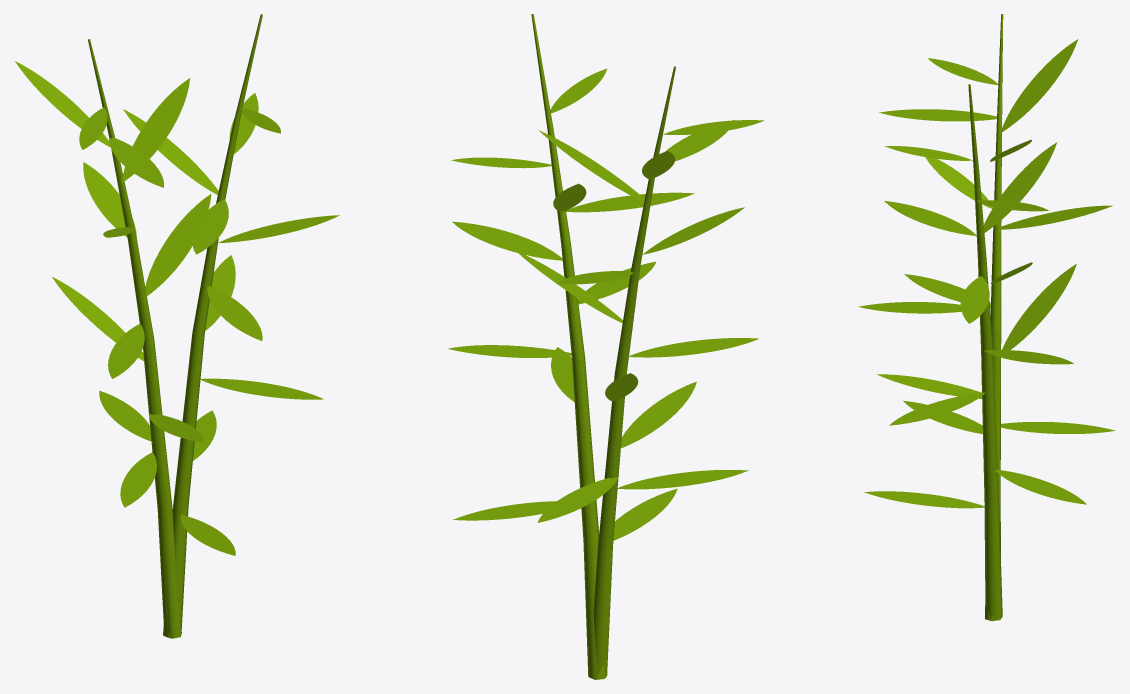
File: milkweed_preflower.fbx
The picture shows the model from 3 angles, left to right: view 1: azimuth 30°, elevation 25°; view 2: azimuth 150°, elevation 25°; view 3: azimuth 270°, elevation 25°; orthographic projection. The views are drawn at different scales.
Parts seen in each view (by area): view 1: SketchUp.010, SketchUp.005, SketchUp, SketchUp.004, SketchUp.008, SketchUp.038, SketchUp.039, SketchUp.037, SketchUp.006, SketchUp.003, SketchUp.045, SketchUp.007 (+9 smaller); view 2: SketchUp.010, SketchUp.040, SketchUp.001, SketchUp.045, SketchUp.003, SketchUp.043, SketchUp.044, SketchUp.006, SketchUp.042, SketchUp.048, SketchUp, SketchUp.046 (+11 smaller); view 3: SketchUp.010, SketchUp.008, SketchUp.037, SketchUp.009, SketchUp.044, SketchUp.039, SketchUp.006, SketchUp.048, SketchUp.007, SketchUp.043, SketchUp.004, SketchUp.038 (+9 smaller).
Boxes of the visible parts, bbox=[...] form: SketchUp.010: bbox=[88, 14, 262, 638]; SketchUp.005: bbox=[145, 193, 211, 296]; SketchUp: bbox=[122, 78, 189, 182]; SketchUp.004: bbox=[83, 162, 136, 237]; SketchUp.008: bbox=[15, 61, 110, 147]; SketchUp.038: bbox=[207, 286, 262, 340]; SketchUp.039: bbox=[200, 378, 323, 399]; SketchUp.037: bbox=[52, 277, 144, 361]; SketchUp.006: bbox=[192, 199, 228, 254]; SketchUp.003: bbox=[120, 452, 156, 507]; SketchUp.045: bbox=[108, 324, 144, 378]; SketchUp.007: bbox=[109, 137, 163, 187]; SketchUp.010: bbox=[531, 14, 675, 679]; SketchUp.040: bbox=[620, 381, 696, 448]; SketchUp.001: bbox=[452, 221, 562, 260]; SketchUp.045: bbox=[628, 338, 758, 357]; SketchUp.003: bbox=[617, 469, 748, 489]; SketchUp.043: bbox=[537, 475, 619, 522]; SketchUp.044: bbox=[613, 488, 677, 540]; SketchUp.006: bbox=[566, 192, 694, 212]; SketchUp.042: bbox=[447, 345, 571, 357]; SketchUp.048: bbox=[453, 501, 556, 520]; SketchUp: bbox=[538, 130, 652, 206]; SketchUp.046: bbox=[642, 207, 744, 254]; SketchUp.010: bbox=[968, 14, 1003, 621]; SketchUp.008: bbox=[1001, 39, 1077, 132]; SketchUp.037: bbox=[1002, 264, 1076, 350]; SketchUp.009: bbox=[983, 142, 1057, 232]; SketchUp.044: bbox=[864, 491, 984, 508]; SketchUp.039: bbox=[889, 392, 984, 425]; SketchUp.006: bbox=[884, 201, 976, 236]; SketchUp.048: bbox=[996, 469, 1086, 504]; SketchUp.007: bbox=[879, 109, 1002, 121]; SketchUp.043: bbox=[1000, 422, 1115, 433]; SketchUp.004: bbox=[998, 205, 1112, 229]; SketchUp.038: bbox=[858, 302, 961, 313].
Size of the model in its own units: 26.81 by 55.88 by 28.81.
